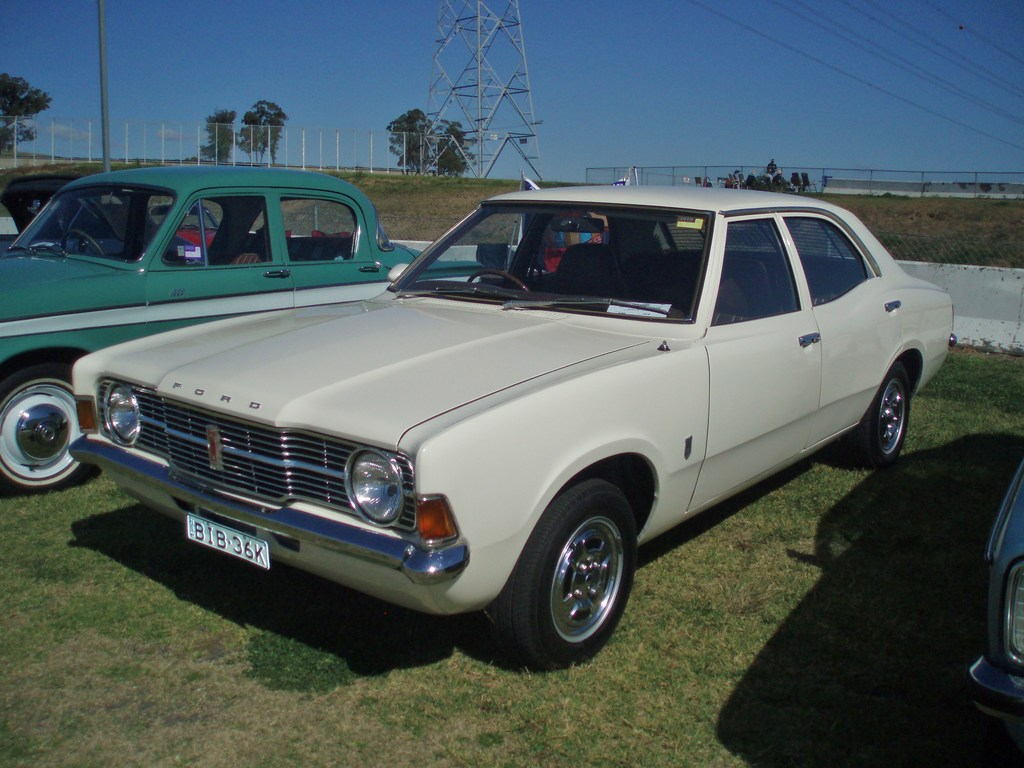mobil: (71, 175, 982, 664)
